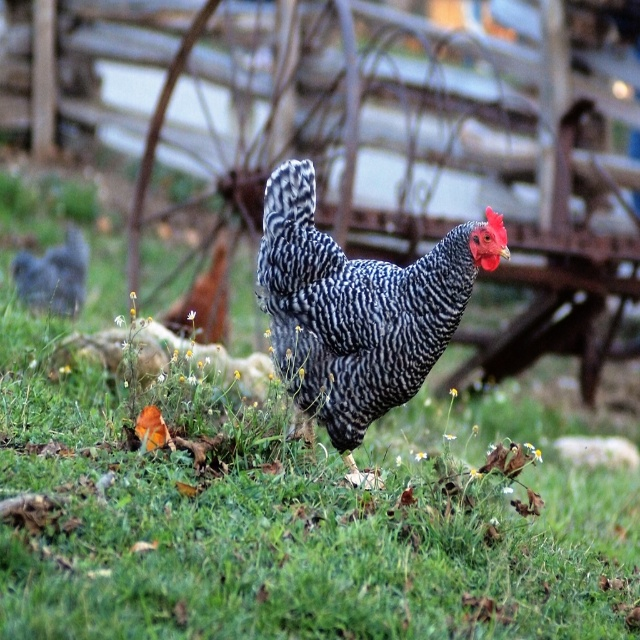Chicken: (254, 158, 511, 489), (153, 242, 228, 345), (10, 222, 87, 322)
